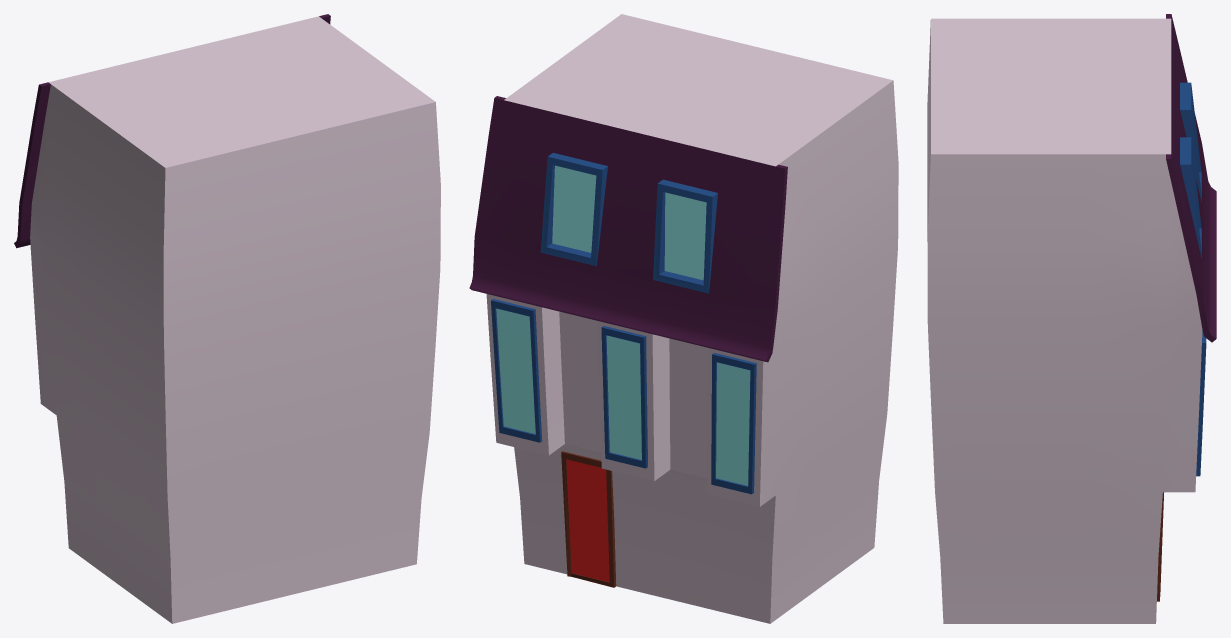
File: SM_Maison_02.glb
3 views of the same model, side by side, from view 1: azimuth 30°, elevation 25°; view 2: azimuth 150°, elevation 25°; view 3: azimuth 270°, elevation 25° (orthographic). The views are drawn at different scales.
Parts seen in each view (by area): view 1: SM_maison_02; view 2: SM_maison_02; view 3: SM_maison_02.
Boxes of the visible parts, x1=… form: SM_maison_02: x1=14, y1=14, x2=440, y2=623; SM_maison_02: x1=469, y1=14, x2=898, y2=623; SM_maison_02: x1=927, y1=14, x2=1216, y2=623.
Size of the model in its own units: 14.17 by 21 by 11.55.
